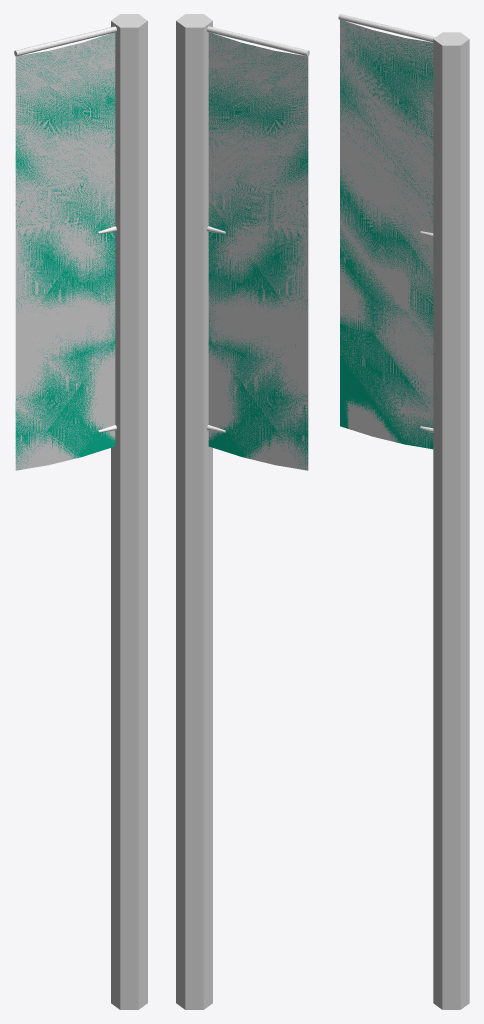
File: flag_hirochi.dae
3 views of the same model, side by side, from view 1: azimuth 30°, elevation 25°; view 2: azimuth 150°, elevation 25°; view 3: azimuth 330°, elevation 25° (orthographic).
Parts seen in each view (by area): view 1: flag_hirochi_a200, Colmesh-1, flag_hirochi_a050; view 2: flag_hirochi_a200, Colmesh-1, flag_hirochi_a050; view 3: Colmesh-1, flag_hirochi_a200, flag_hirochi_a050.
Part boxes in pixels (left/top/right/bottom): flag_hirochi_a200: left=14, top=26, right=116, bottom=470; Colmesh-1: left=111, top=14, right=147, bottom=1009; flag_hirochi_a050: left=14, top=26, right=116, bottom=469; flag_hirochi_a200: left=207, top=27, right=309, bottom=470; Colmesh-1: left=176, top=14, right=212, bottom=1009; flag_hirochi_a050: left=207, top=26, right=309, bottom=468; Colmesh-1: left=433, top=32, right=469, bottom=1009; flag_hirochi_a200: left=338, top=14, right=434, bottom=447; flag_hirochi_a050: left=339, top=14, right=435, bottom=449.
Bounding box in the file's own units: 1.48 × 0.3716 × 10.9.
